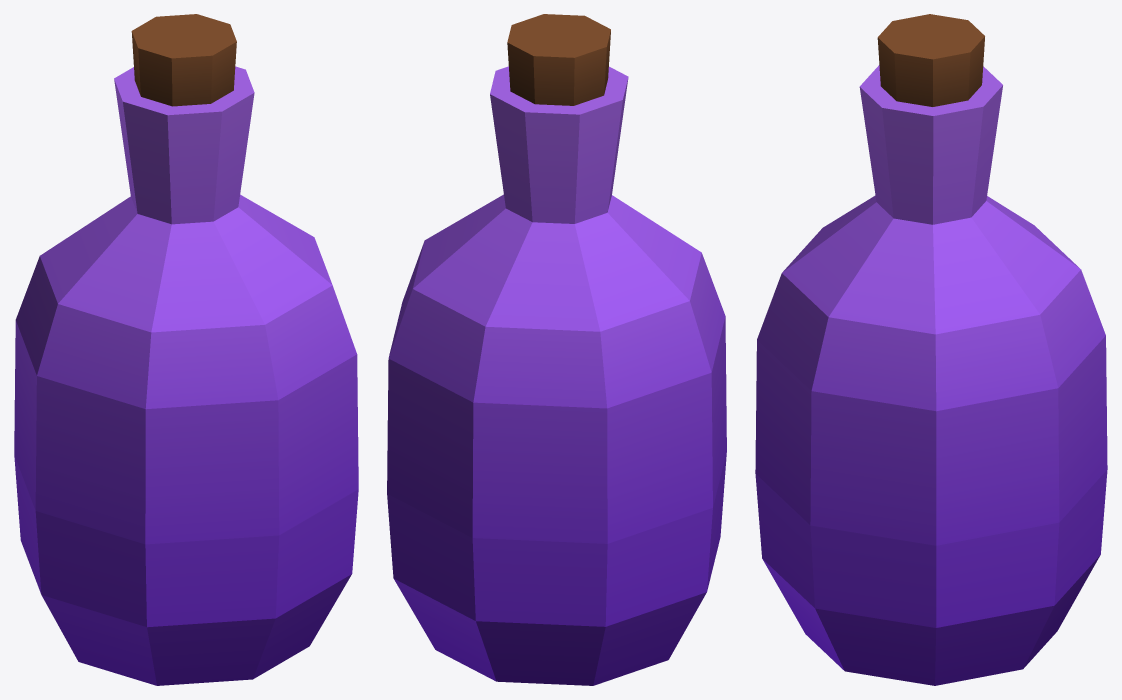
The model's file is potion_021_purple.fbx.
The picture shows the model from 3 angles, left to right: view 1: azimuth 30°, elevation 25°; view 2: azimuth 150°, elevation 25°; view 3: azimuth 270°, elevation 25°; orthographic projection.
Visible parts, largest first — view 1: potion_021_purple; view 2: potion_021_purple; view 3: potion_021_purple.
Boxes of the visible parts, box(x1,y1,x2,y2) form: potion_021_purple: box(14, 14, 358, 685); potion_021_purple: box(387, 14, 726, 685); potion_021_purple: box(755, 14, 1107, 685).
Bounding box in the file's own units: 0.124 × 0.2312 × 0.124.
